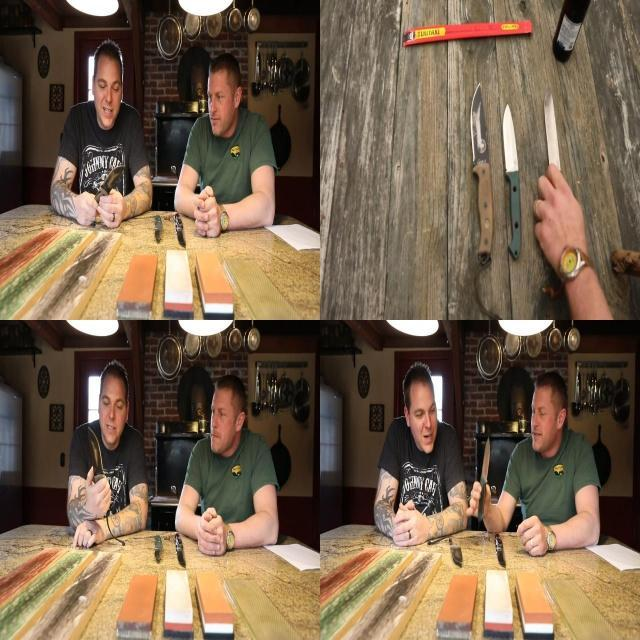-: (532, 77, 584, 217), (465, 73, 494, 189), (498, 93, 524, 194), (466, 431, 494, 516), (83, 421, 115, 495), (85, 159, 127, 215)
